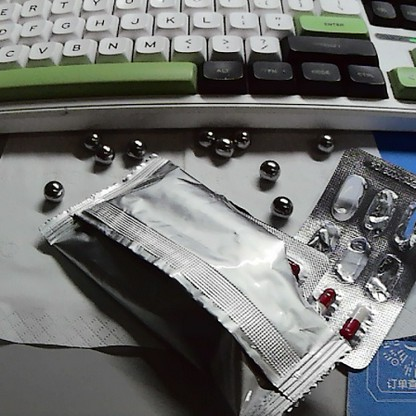ironball: (36, 174, 64, 204), (122, 134, 150, 163), (256, 154, 283, 181), (86, 138, 114, 164), (270, 191, 293, 219), (211, 134, 236, 159), (235, 124, 253, 155), (191, 123, 214, 145), (316, 130, 336, 153), (82, 124, 104, 144)
